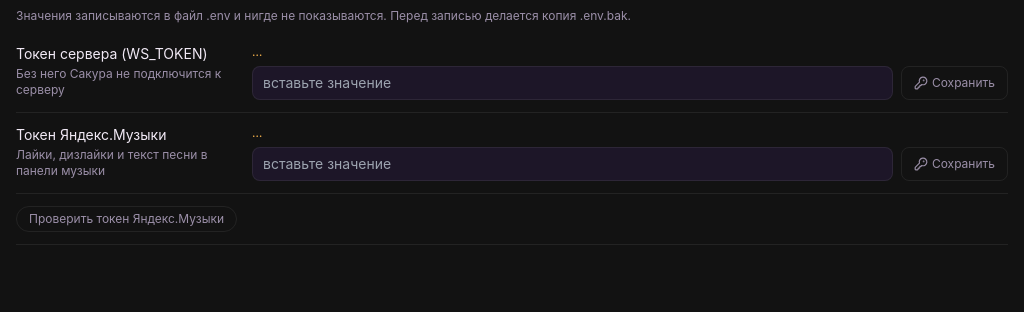
Test: запись: значение уходит в ядро, поле сразу очищается, в разметке его нет; предлагается перезапуск
This screenshot has width=1024, height=312.
Later steps or results of the test are not shown.
Expected: the text named "YANDEX_MUSIC_TOKEN: не задан" is shown, [252,125,262,140]
Step 1. Type "fake-secret-value" into the password field named "Новое значение YANDEX_MUSIC_TOKEN" → (572, 164), box [252,147,893,181]
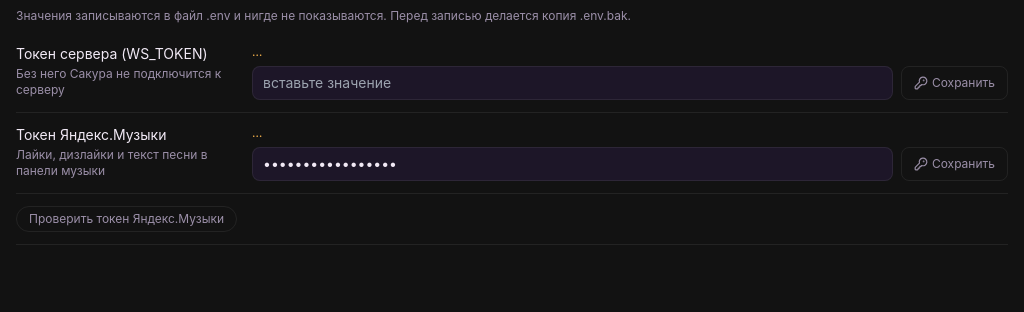
Step 2. Submit the form named "Новое значение YANDEX_MUSIC_TOKEN", box [252,147,1008,181]
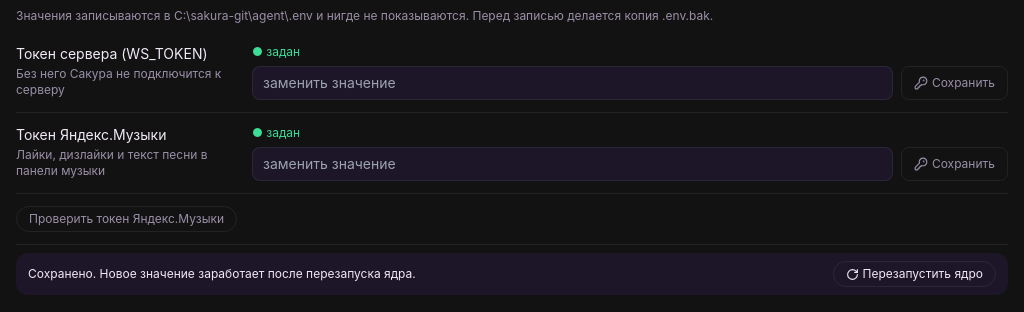
Now the password field named "Новое значение YANDEX_MUSIC_TOKEN" is empty, box [252,147,893,181]
Now the text named "YANDEX_MUSIC_TOKEN: задан" is shown, box [252,125,300,140]
